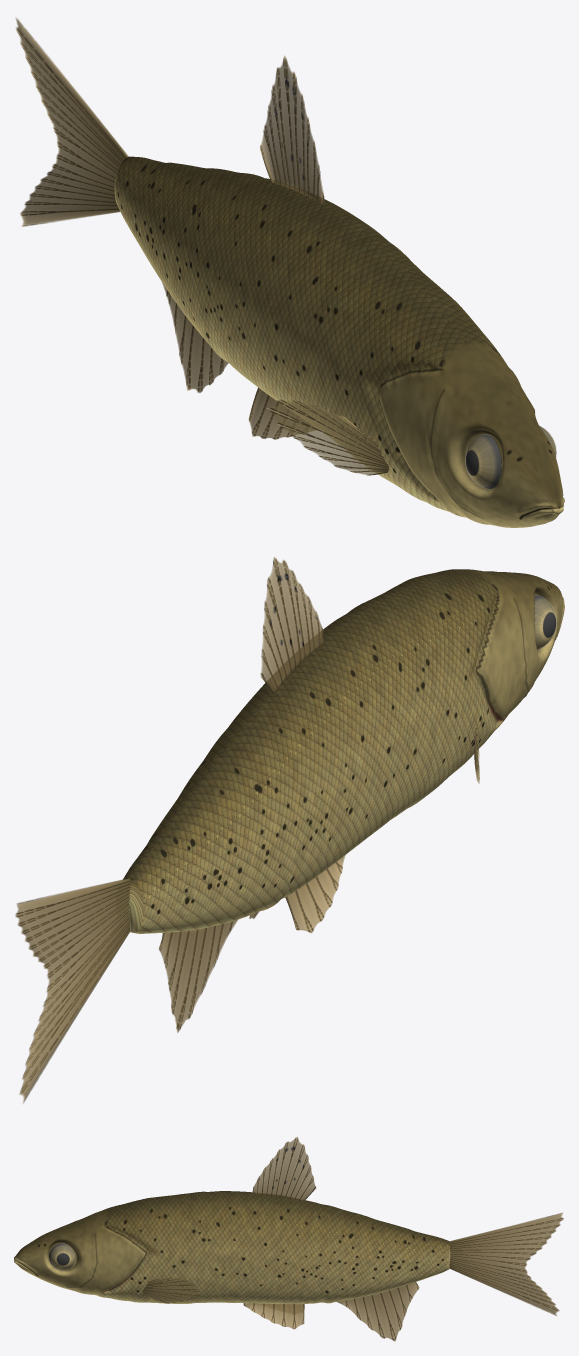
File: strzebla_blotna.glb
The picture shows the model from 3 angles, top to bottom: view 1: azimuth 30°, elevation 25°; view 2: azimuth 150°, elevation 25°; view 3: azimuth 270°, elevation 25°; orthographic projection. The views are drawn at different scales.
Visible parts, largest first — view 1: Body, FinCaudal, FinDorsal1, FinPectoral, FinAnal, FinPelvic, EyeLeft, CorneaLeft; view 2: Body, FinCaudal, FinDorsal1, FinAnal, FinPelvic, CorneaLeft, EyeLeft; view 3: Body, FinCaudal, FinDorsal1, FinAnal, FinPectoral, FinPelvic, EyeRight, CorneaRight.
Boxes of the visible parts, bbox=[...] form: Body: bbox=[114, 156, 564, 527]; FinCaudal: bbox=[16, 18, 128, 226]; FinDorsal1: bbox=[260, 56, 324, 204]; FinPectoral: bbox=[267, 399, 388, 475]; FinAnal: bbox=[162, 282, 228, 392]; FinPelvic: bbox=[248, 387, 315, 439]; EyeLeft: bbox=[465, 435, 501, 488]; CorneaLeft: bbox=[465, 434, 501, 488]; Body: bbox=[123, 569, 564, 933]; FinCaudal: bbox=[15, 878, 130, 1103]; FinDorsal1: bbox=[260, 557, 324, 693]; FinAnal: bbox=[158, 920, 237, 1032]; FinPelvic: bbox=[249, 855, 345, 933]; CorneaLeft: bbox=[535, 595, 556, 649]; EyeLeft: bbox=[534, 595, 556, 649]; Body: bbox=[14, 1191, 450, 1303]; FinCaudal: bbox=[449, 1212, 563, 1315]; FinDorsal1: bbox=[252, 1136, 316, 1200]; FinAnal: bbox=[336, 1282, 419, 1341]; FinPectoral: bbox=[142, 1276, 201, 1303]; FinPelvic: bbox=[243, 1303, 304, 1329]; EyeRight: bbox=[49, 1243, 75, 1269]; CorneaRight: bbox=[49, 1243, 74, 1269].
Size of the model in its own units: 0.2257 by 0.4127 by 1.
Materials: 8 (7 with a texture image).
